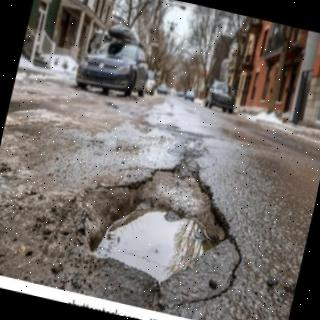pothole: (84, 158, 229, 282)
